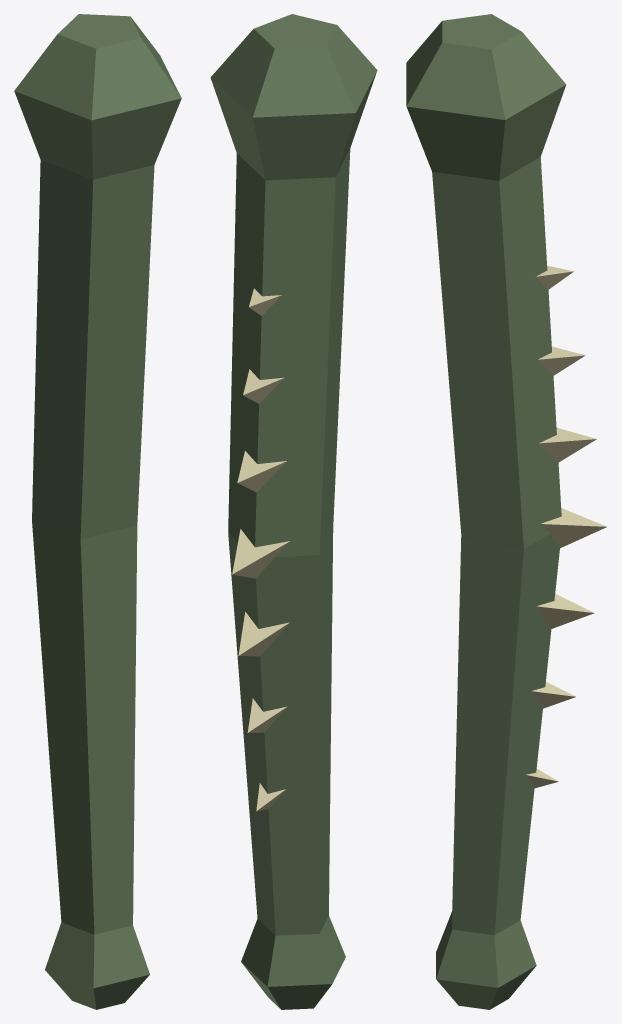
File: ScreecherLegUpperRB.fbx
3 renders of one model, left to right at view 1: azimuth 30°, elevation 25°; view 2: azimuth 150°, elevation 25°; view 3: azimuth 270°, elevation 25°, orthographic.
Parts seen in each view (by area): view 1: Arm1; view 2: Arm1; view 3: Arm1.
Part boxes in pixels (box(x1,y1,x2,y2)): Arm1: box(14, 14, 181, 1009); Arm1: box(210, 14, 377, 1009); Arm1: box(406, 14, 606, 1009).
Size of the model in its own units: 1.14 by 7.2 by 1.36.
